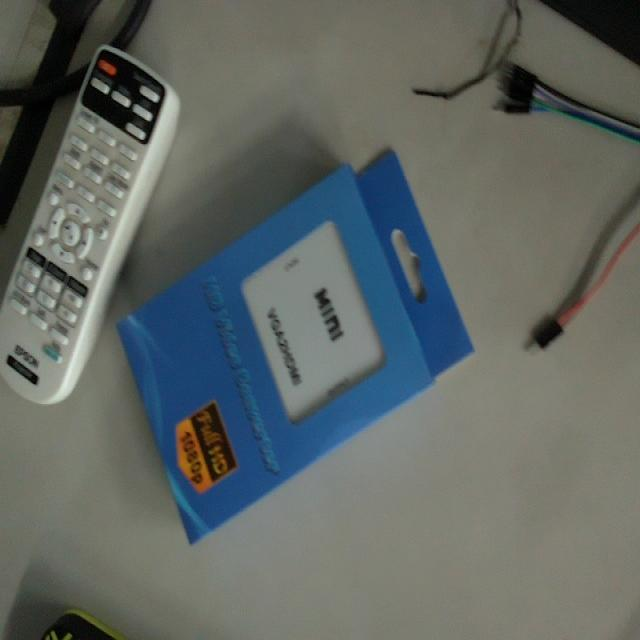remote: (124, 155, 475, 535), (2, 52, 180, 410)
